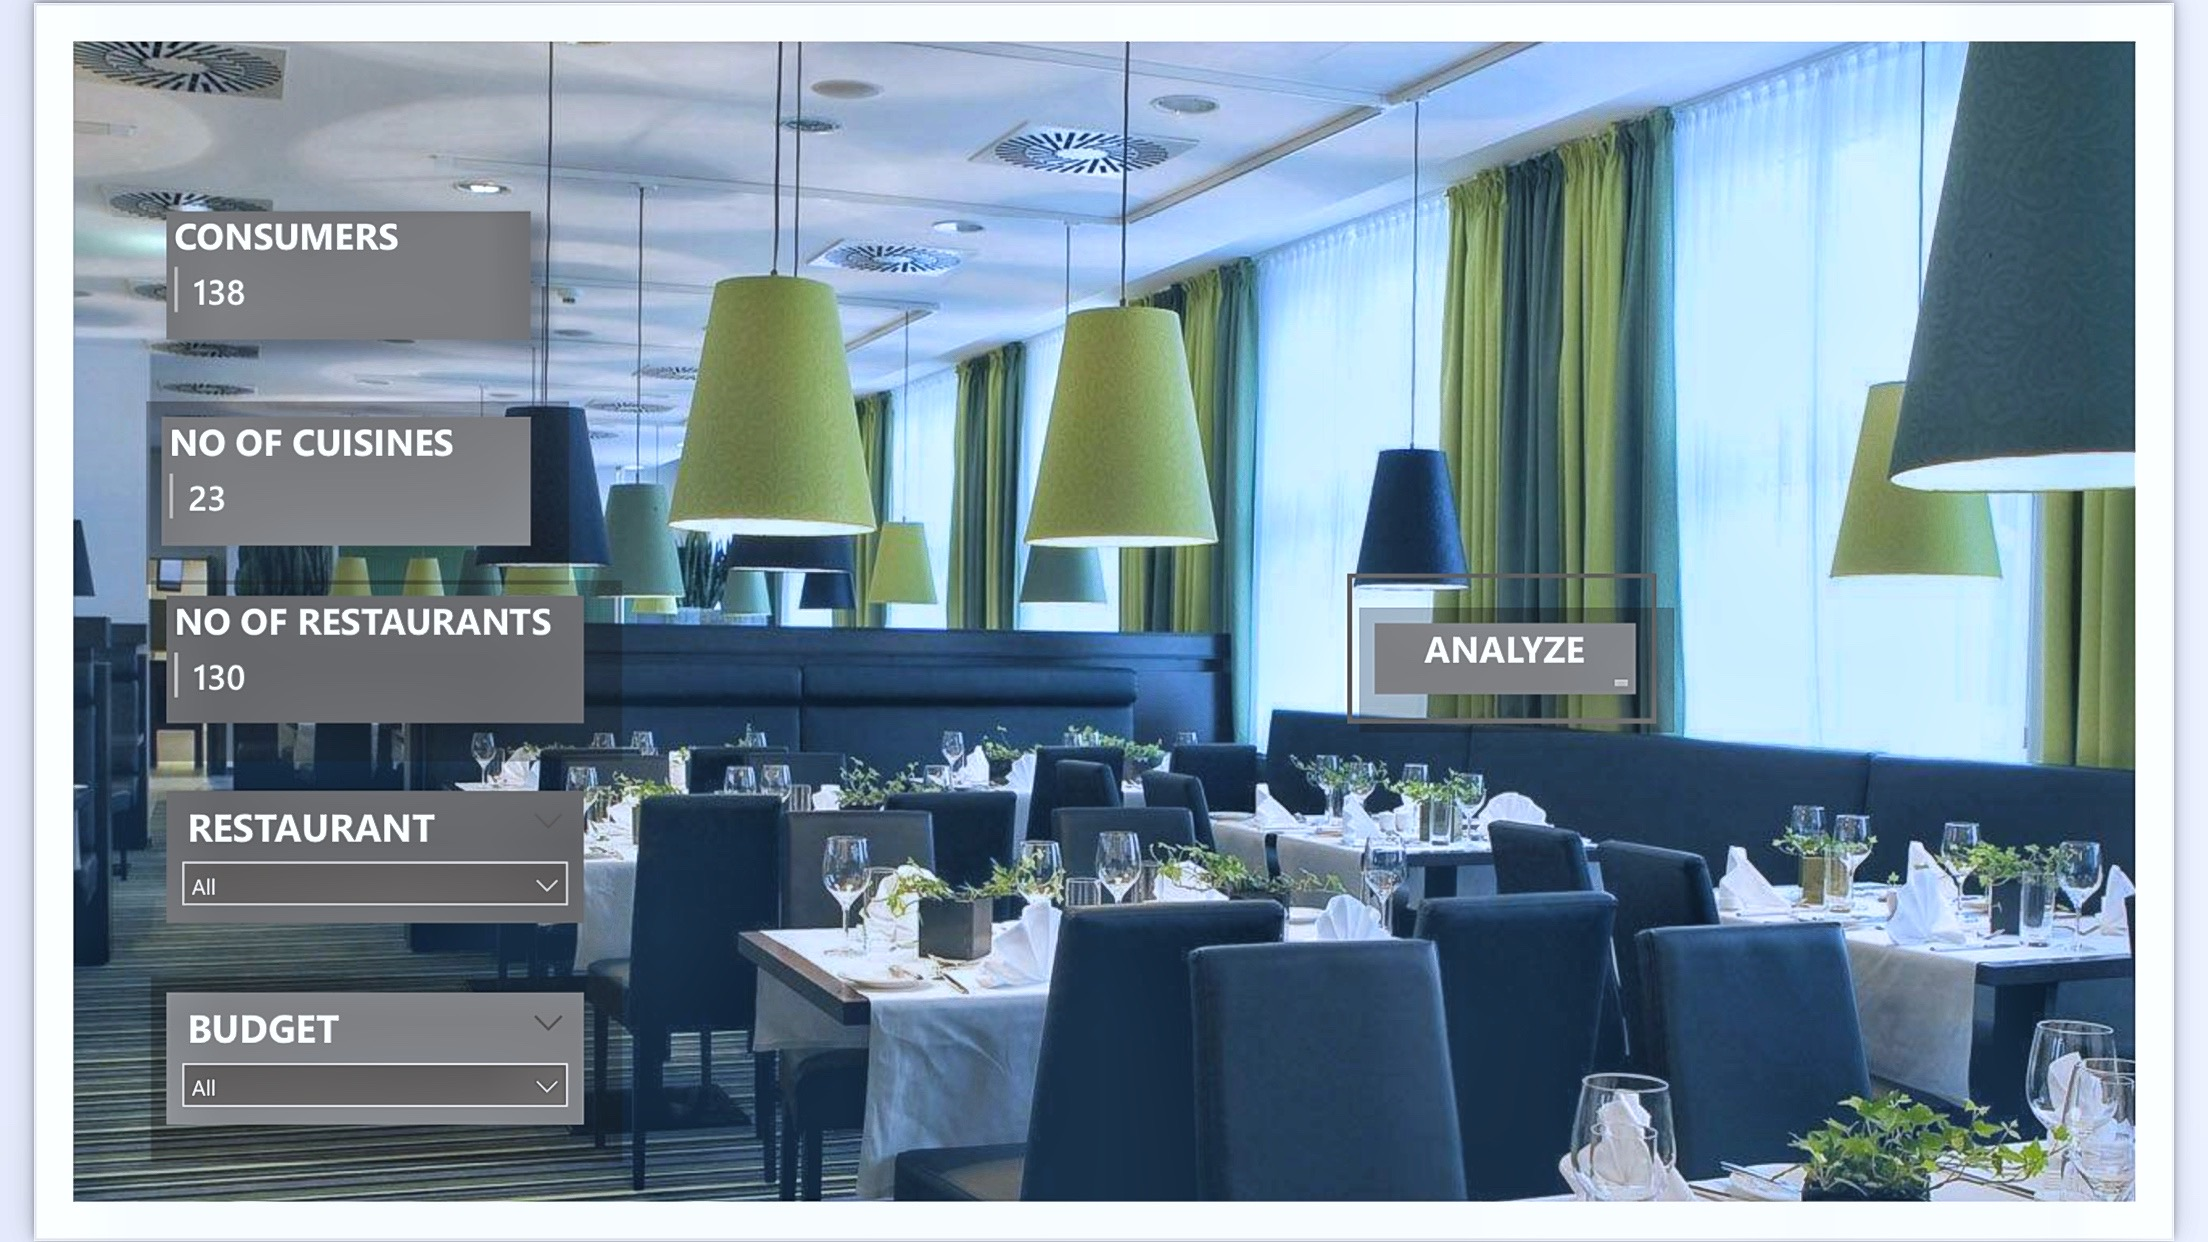

The page's visual inventory and layout, read from the dashboard file:
{"tool":"powerbi","page":{"name":"Mexico Restaurant Rating","canvas":[1280,720],"ordinal":0},"visuals":[{"type":"shape","box":[0,0,1280.2,720],"z":0},{"type":"multiRowCard","title":"CONSUMERS","fields":{"Values":["consumers.Consumer_ID"]},"box":[58,104.7,226.3,80.6],"z":1000},{"type":"multiRowCard","title":"NO OF RESTAURANTS","fields":{"Values":["restaurants.Restaurant_ID"]},"box":[58,343.7,258.9,79.2],"z":2000},{"type":"multiRowCard","title":"NO OF CUISINES","fields":{"Values":["restaurant_cuisines.Cuisine"]},"box":[55.2,233.4,229.2,79.2],"z":3000},{"type":"slicer","fields":{"Values":["consumers.Budget"]},"box":[58,589.9,258.9,82],"z":4000},{"type":"slicer","title":"Restaurant","fields":{"Values":["restaurants.Name"]},"box":[58,465.4,258.9,82],"z":5000},{"type":"textbox","title":"ANALYZE","box":[807.7,360.7,162.7,43.9],"z":6000},{"type":"actionButton","box":[790.7,329.6,192.4,93.4],"z":7000}]}

Visuals, with their boxes in screenshot pixels (x1, y1, x2, y2), scaled from the page's 1280x720 canvas onto the 2208x1242 screenshot:
shape: l=0, t=0, r=2207, b=1241
"CONSUMERS" multiRowCard: l=100, t=181, r=490, b=320
"NO OF RESTAURANTS" multiRowCard: l=100, t=593, r=547, b=730
"NO OF CUISINES" multiRowCard: l=95, t=403, r=491, b=539
slicer - consumers.Budget: l=100, t=1018, r=547, b=1159
"Restaurant" slicer: l=100, t=803, r=547, b=944
"ANALYZE" textbox: l=1393, t=622, r=1674, b=698
actionButton: l=1364, t=569, r=1696, b=730
